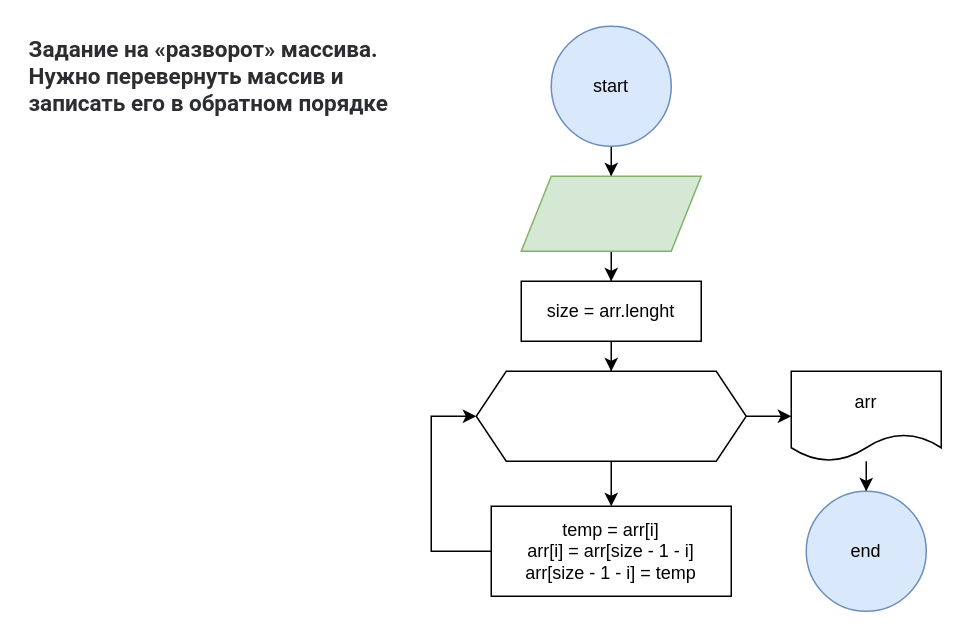
This 968x638 diagram has some shape labels left out. Each missing label, with the centre of its shape:
arr[]: the point at 610,213
i = 0; i < size / 2; 1: the point at 610,415
